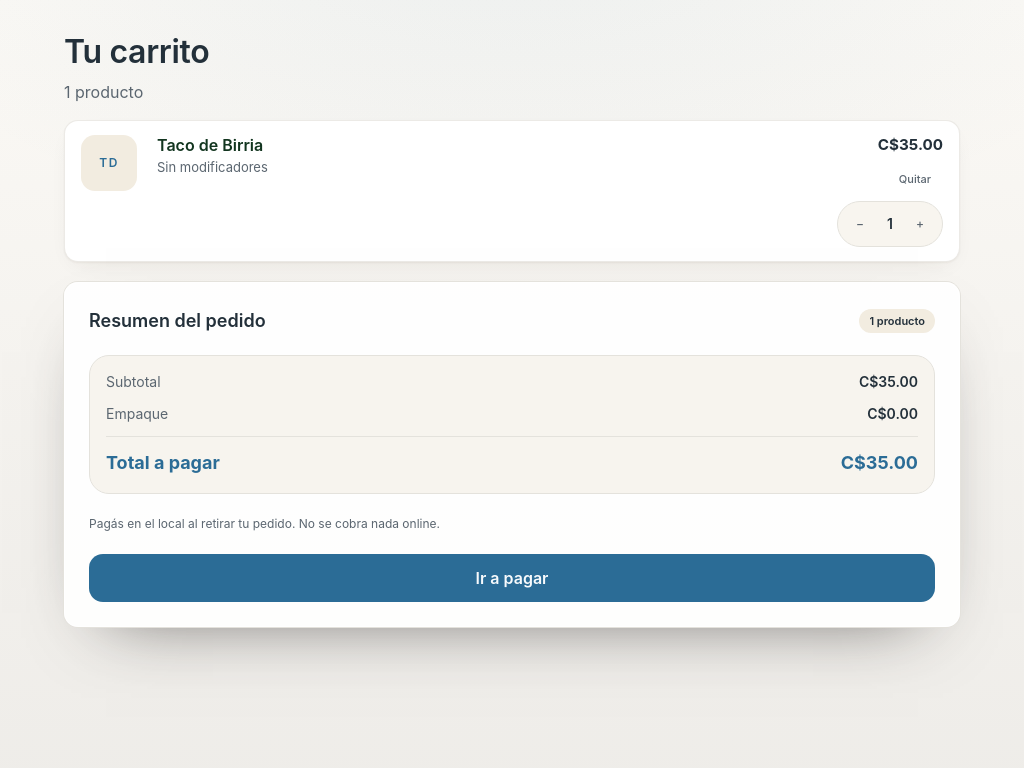
Test: carrito: edición por ítem (fase 7) › quitar saca la línea y deja el estado vacío
Expected: the text "Taco de Birria" is shown, [157,135,263,155]
Click the button with aria-label "Quitar Taco de Birria del carrito": (915,179) [887,163,943,195]
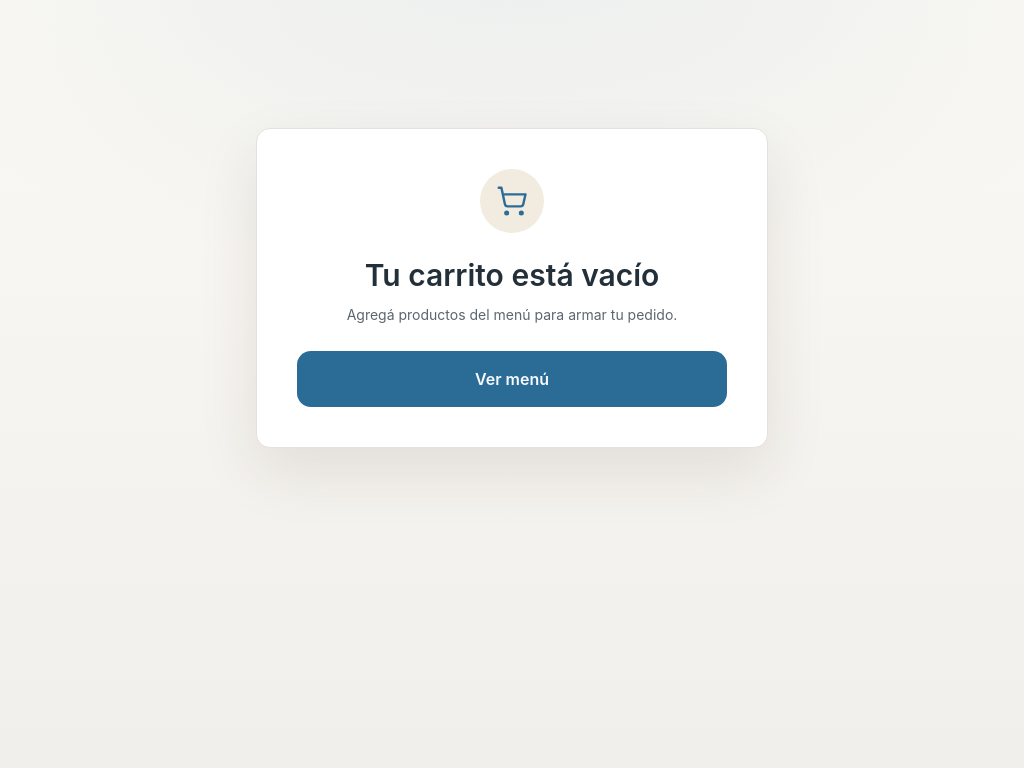
Now the heading "Tu carrito está vacío" is shown, box [365,257,659,293]
Now the text "Taco de Birria" is gone
